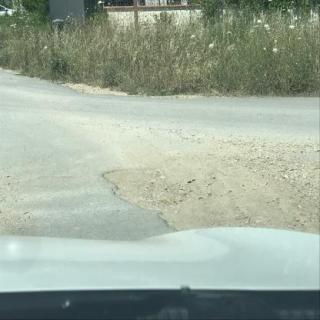pothole: (104, 137, 320, 234)
